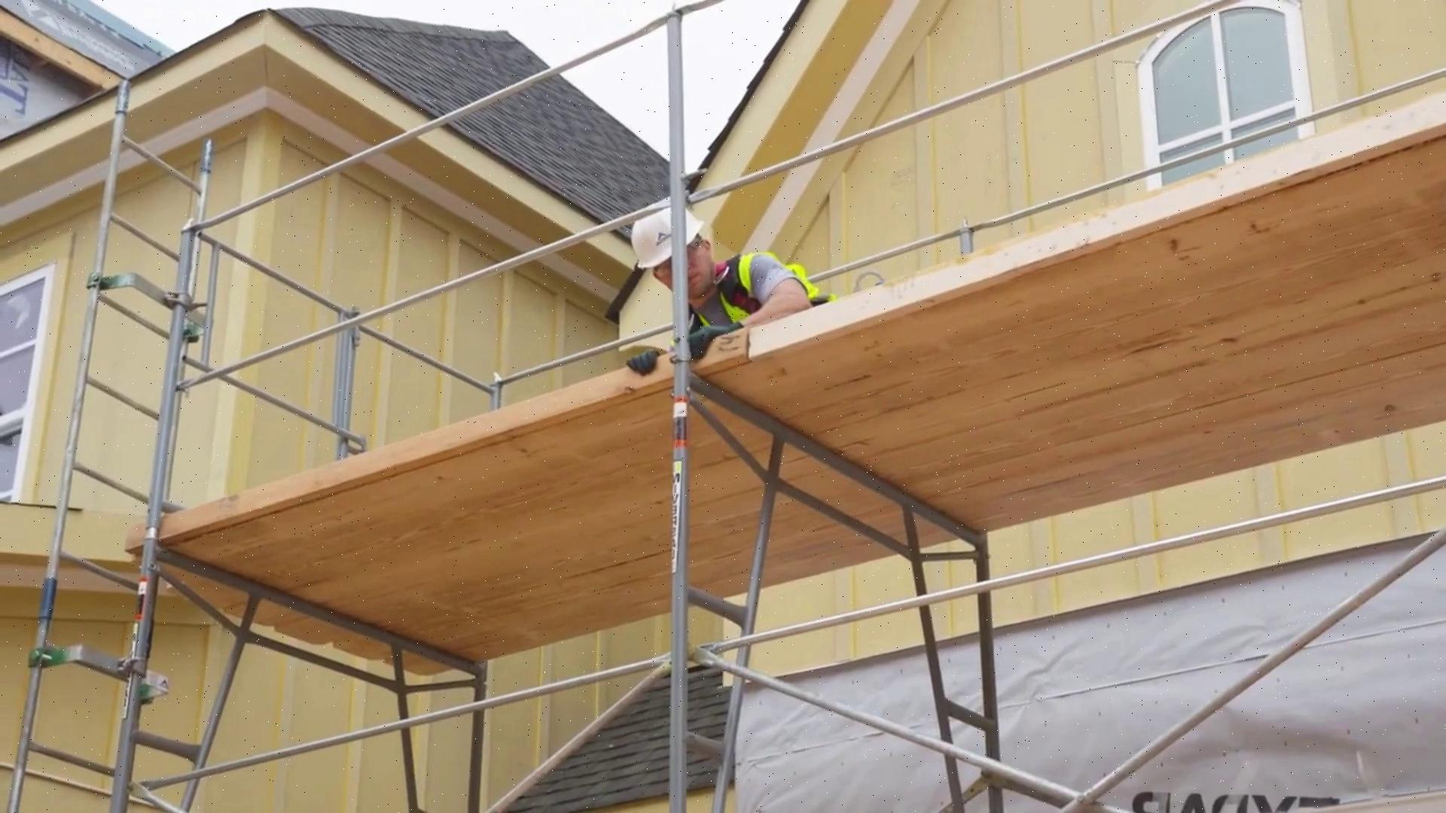Hard_hat: (634, 206, 706, 274)
Vest: (688, 236, 825, 321)
